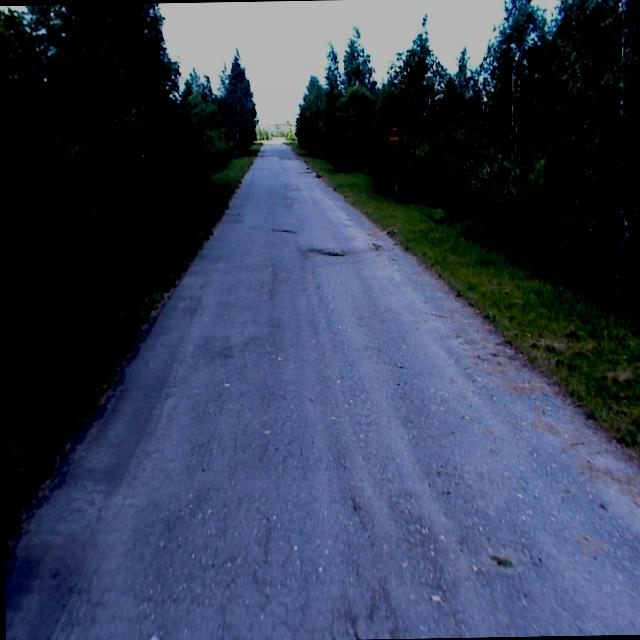road: (4, 142, 640, 640)
